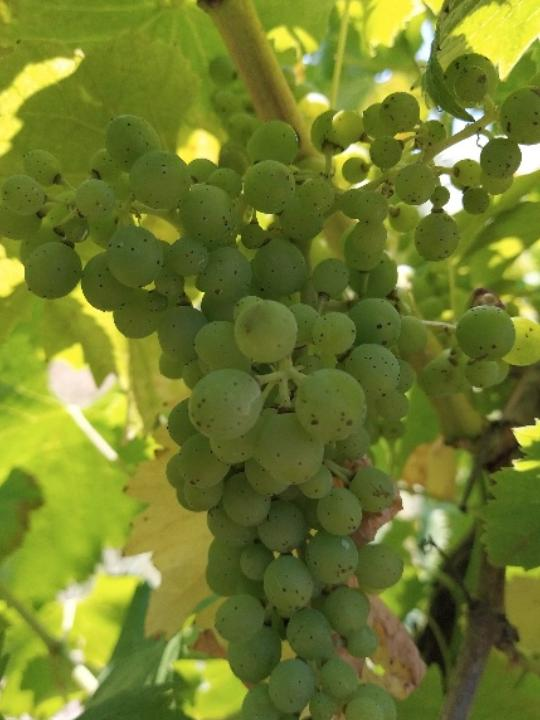grape: (0, 53, 540, 720)
